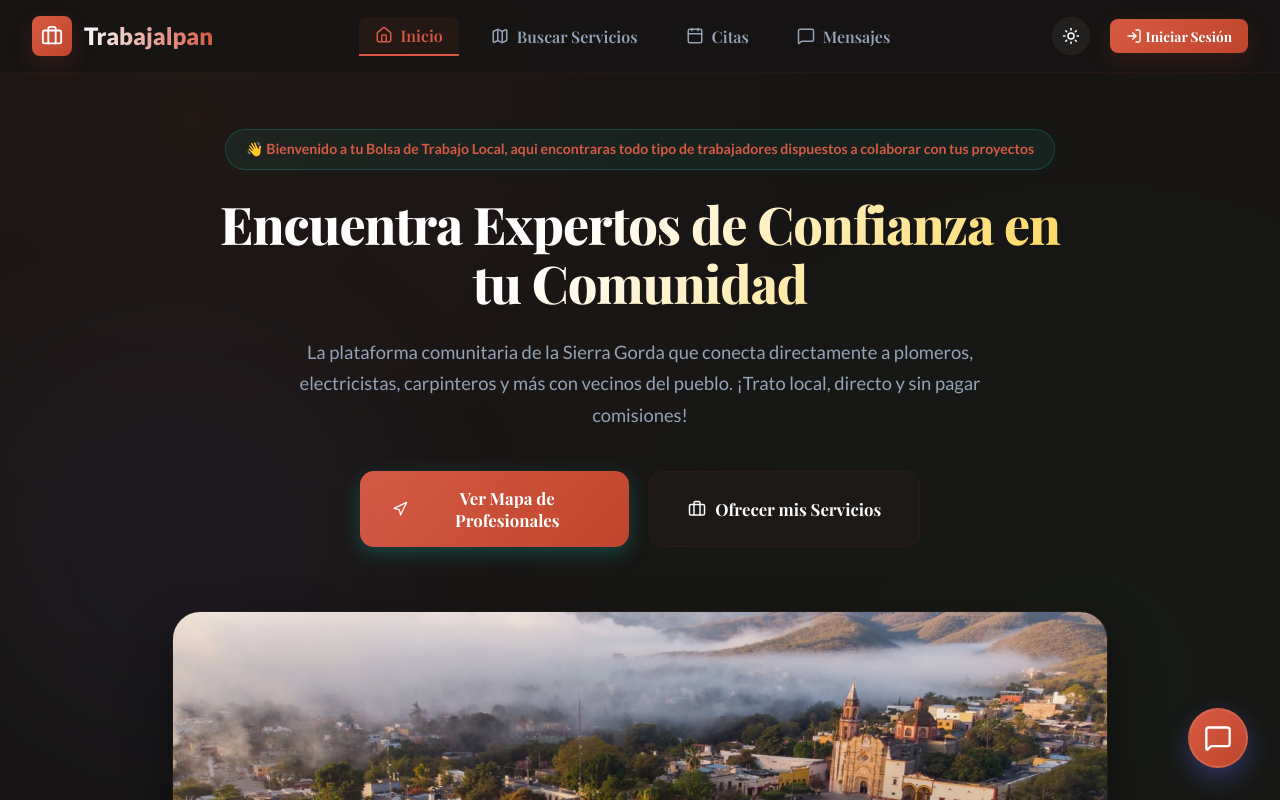
Bolsa de Trabajo E2E Tests › TC-04 & TC-05: Debería abrir el chatbot y poder cotizar un oficio
This screenshot has width=1280, height=800.
Note: Abrir el chatbot
Click the button with id "btn_jalpi_chatbot" at (1218, 738), box [1188,708,1248,768]
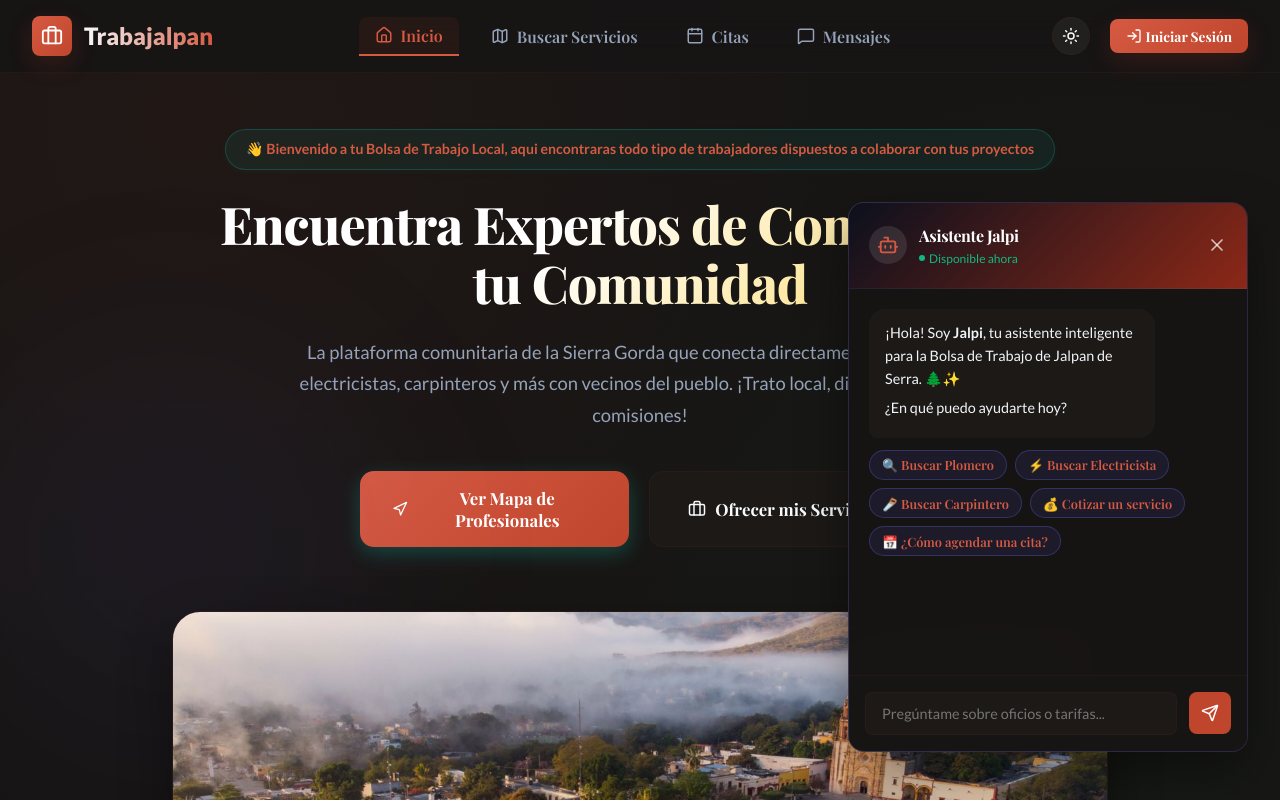
Result: the heading "Asistente Jalpi" is shown at [919,223,1019,249]
Note: Escribir en el input
Type "cotizar plomero" into the field with id "txt_chatbot_prompt" at (1021, 714), box [865,692,1177,735]
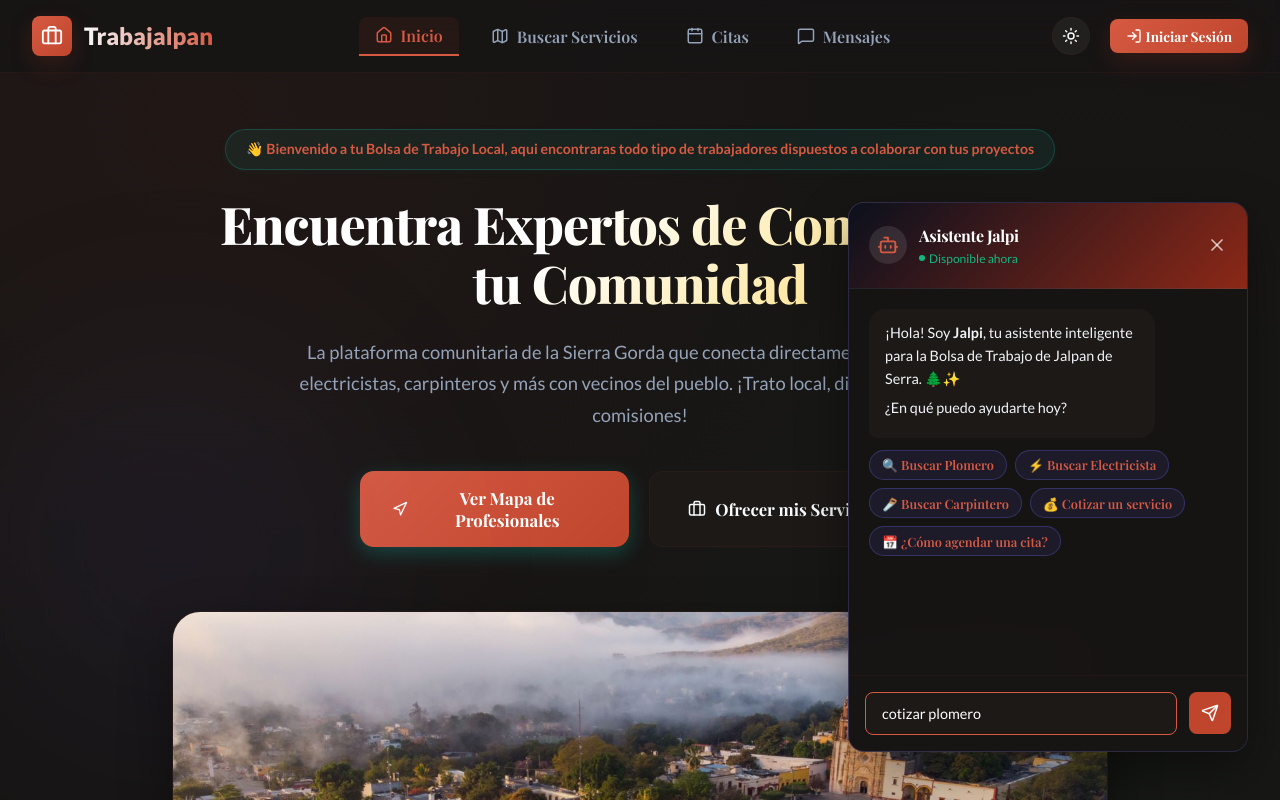
Click the button with id "btn_chatbot_send" at (1210, 713), box [1189,692,1231,734]
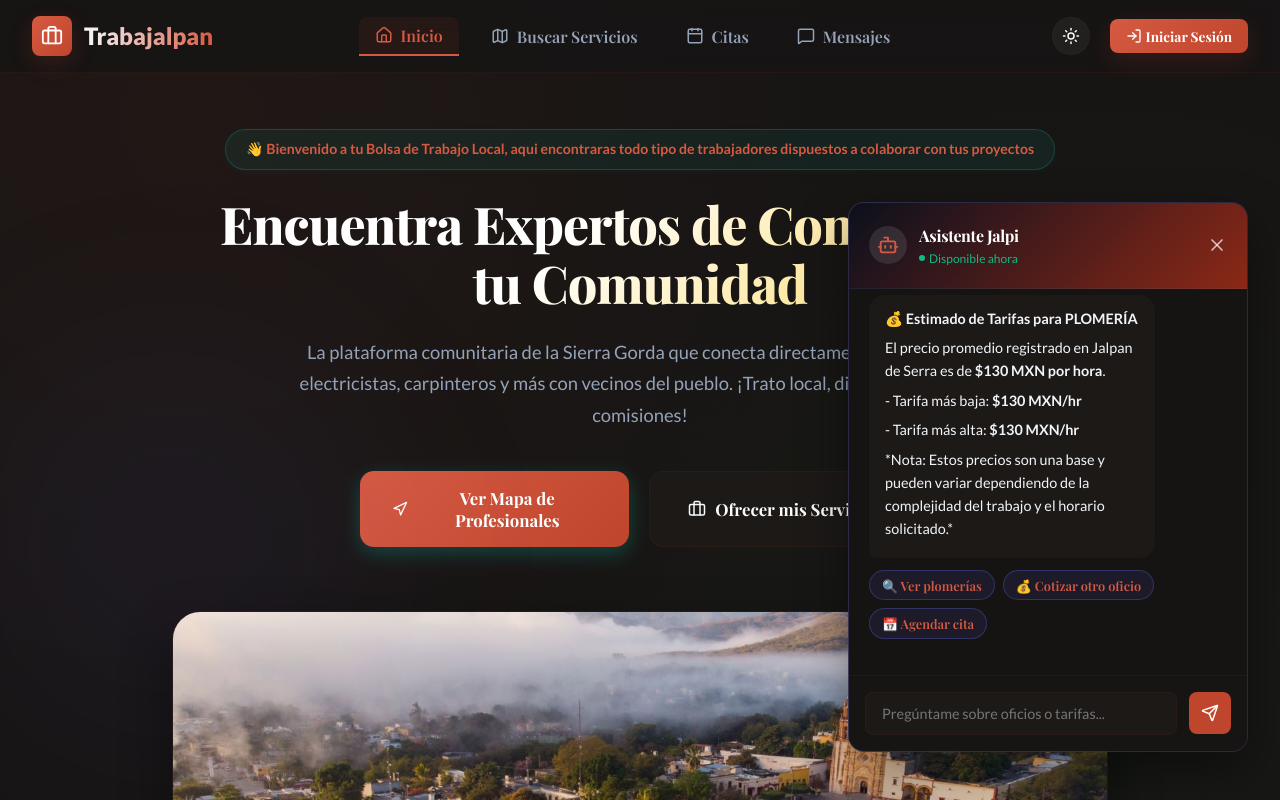
Result: the text "Estimado de Tarifas para" is shown at [906,310,1138,327]
Note: Cerrar chatbot
Click the button with class "close-btn" at (1217, 245), box [1207,235,1227,255]
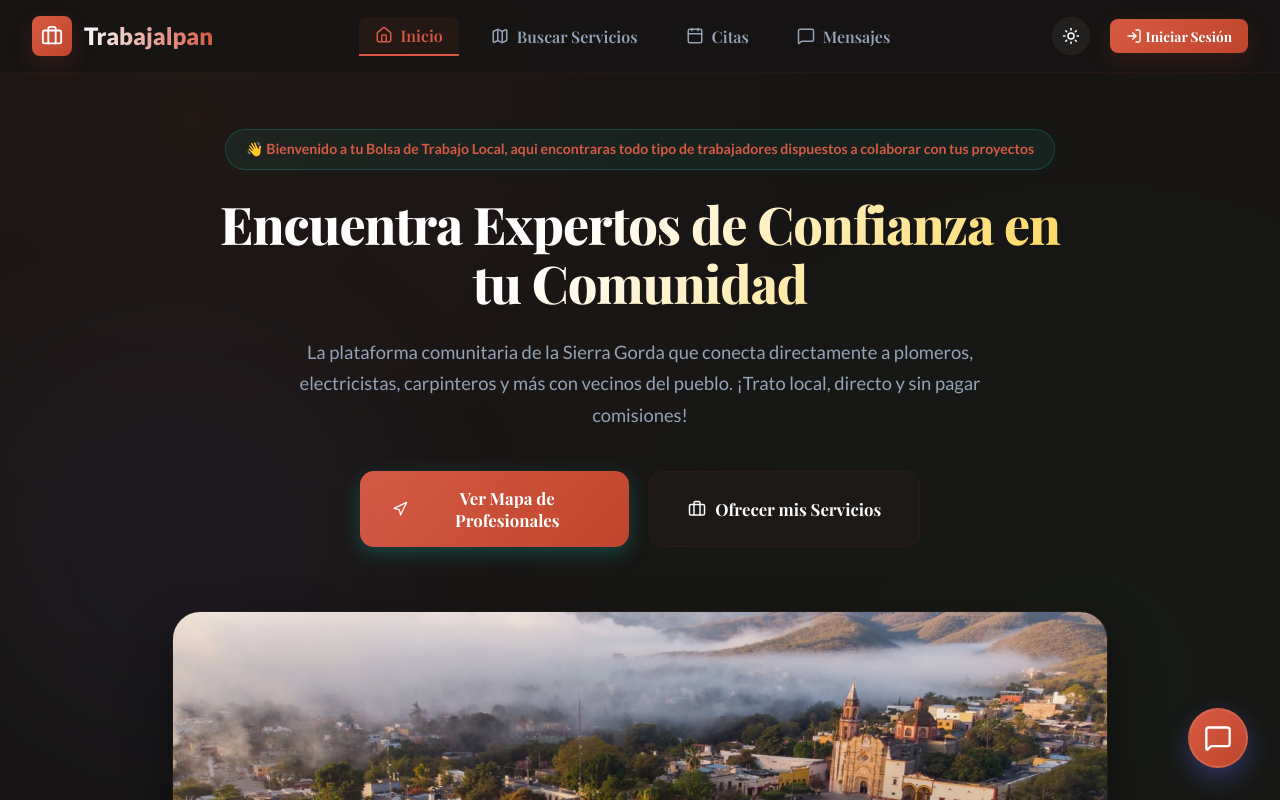
Result: the button with id "btn_jalpi_chatbot" is shown at [1188,708,1248,768]
